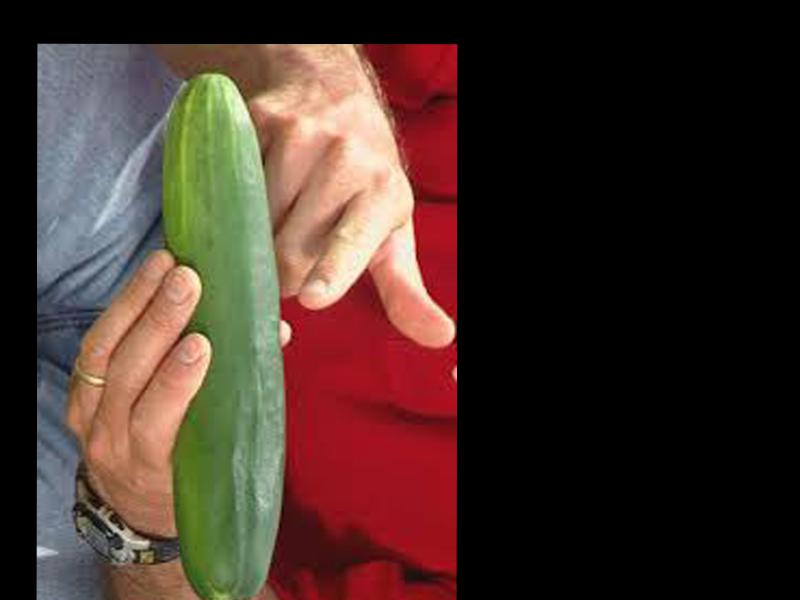Cucumber: (159, 72, 286, 600)
